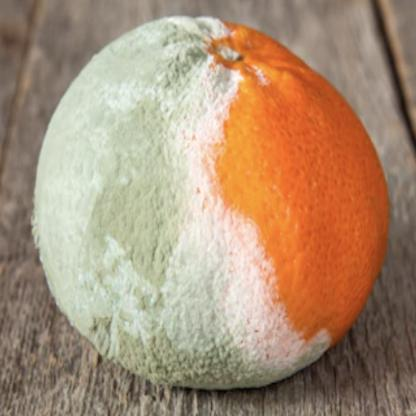rotten: (35, 18, 389, 387)
